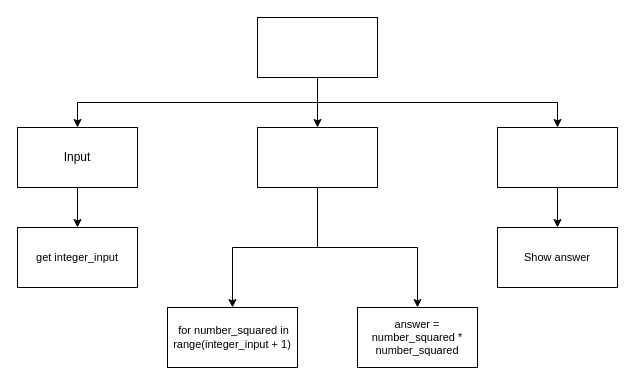
This 635x385 diagram has some shape labels left out. The shapes that lost their labels are listed below. From the top down, each one's centre as x and y in pixels, then its label:
point 317,47: exponents
point 317,157: Process
point 557,157: Output
